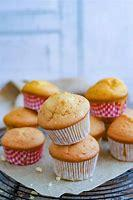muffin: (40, 89, 91, 145), (50, 136, 99, 185), (84, 74, 130, 121), (3, 129, 42, 167), (106, 116, 133, 160), (21, 78, 52, 107), (1, 104, 33, 125)
